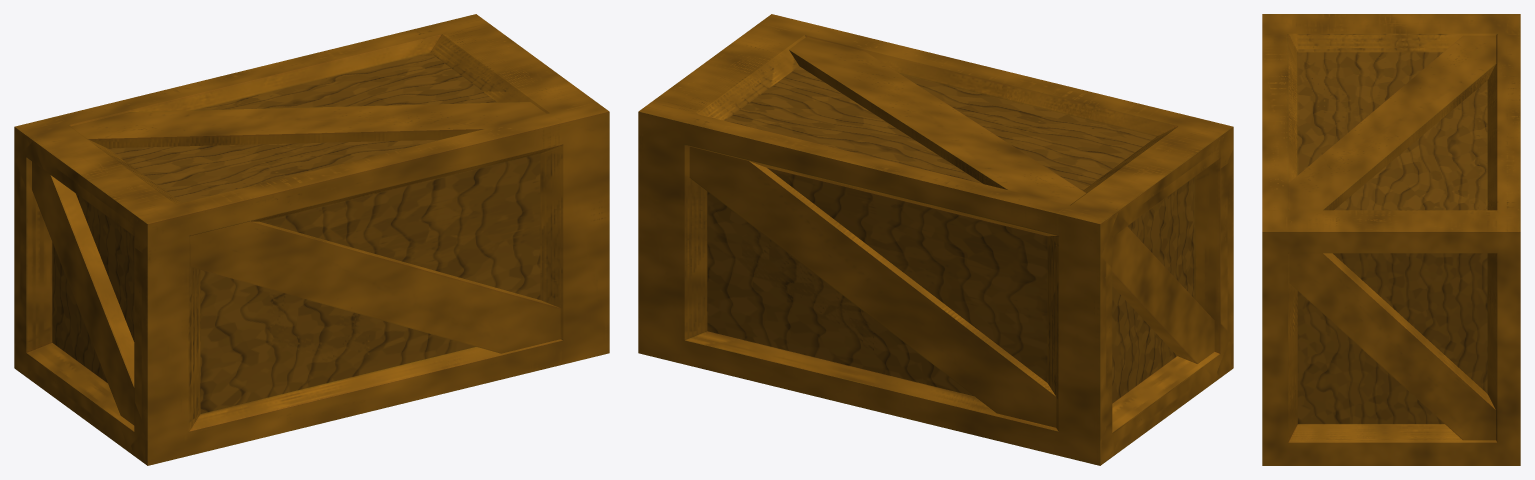
Rendered from TallBoxH.fbx.
3 renders of one model, left to right at view 1: azimuth 30°, elevation 25°; view 2: azimuth 150°, elevation 25°; view 3: azimuth 270°, elevation 25°, orthographic. The views are drawn at different scales.
Visible parts, largest first — view 1: TallBoxH; view 2: TallBoxH; view 3: TallBoxH.
Part boxes in pixels (x1,y1,x2,y2): TallBoxH: (14, 14, 609, 465); TallBoxH: (638, 14, 1233, 465); TallBoxH: (1262, 14, 1520, 465).
Size of the model in its own units: 440 by 220 by 220.
